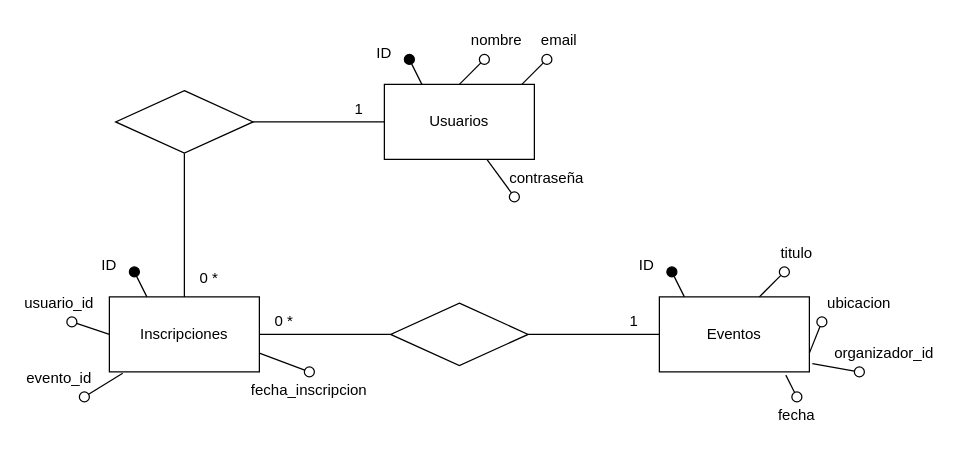
Image size: 955x455. Some labels were removed from this diagram. The centre of each missing label's shape, as x and y in pixels:
"realiza" belongs at point (183, 121).
"tiene" belongs at point (458, 334).
